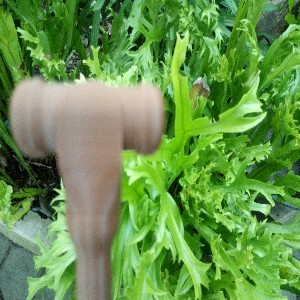palu: (7, 77, 165, 300)
